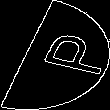P_W: (11, 29, 99, 81)
